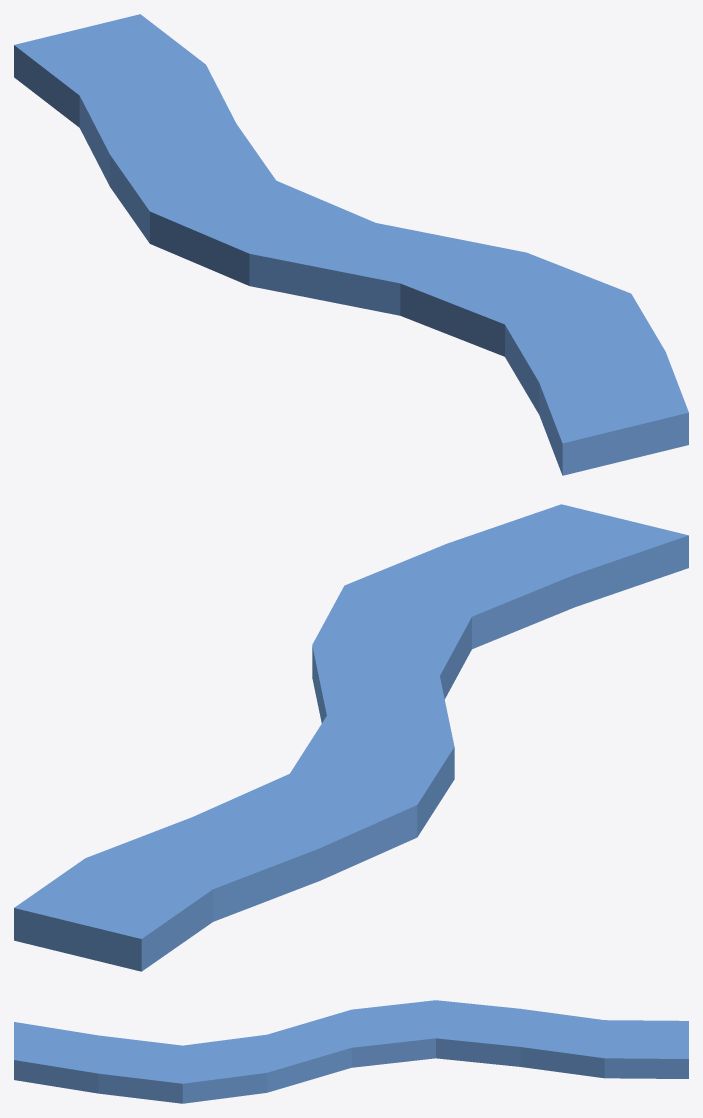
Rendered from River.fbx.
The picture shows the model from 3 angles, top to bottom: view 1: azimuth 30°, elevation 25°; view 2: azimuth 150°, elevation 25°; view 3: azimuth 270°, elevation 25°; orthographic projection. The views are drawn at different scales.
Visible parts, largest first — view 1: Cube; view 2: Cube; view 3: Cube.
Boxes of the visible parts, <box> form: Cube: <box>14,14,688,475</box>; Cube: <box>14,504,688,971</box>; Cube: <box>14,1000,688,1103</box>.
Bounding box in the file's own units: 1790 × 200 × 6108.
